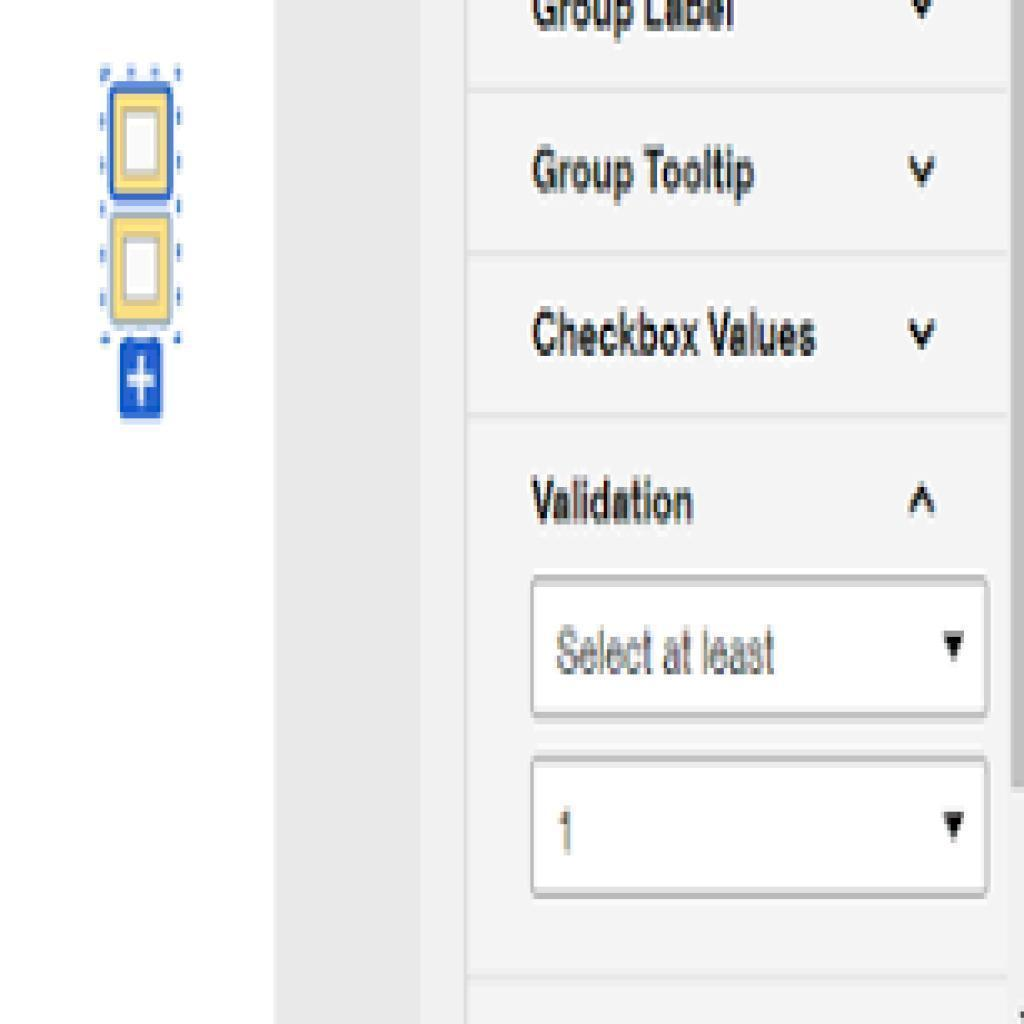dropdown: (468, 93, 1008, 258), (469, 258, 1010, 420), (534, 758, 987, 901), (534, 581, 988, 718)
icon: (904, 471, 940, 524)
